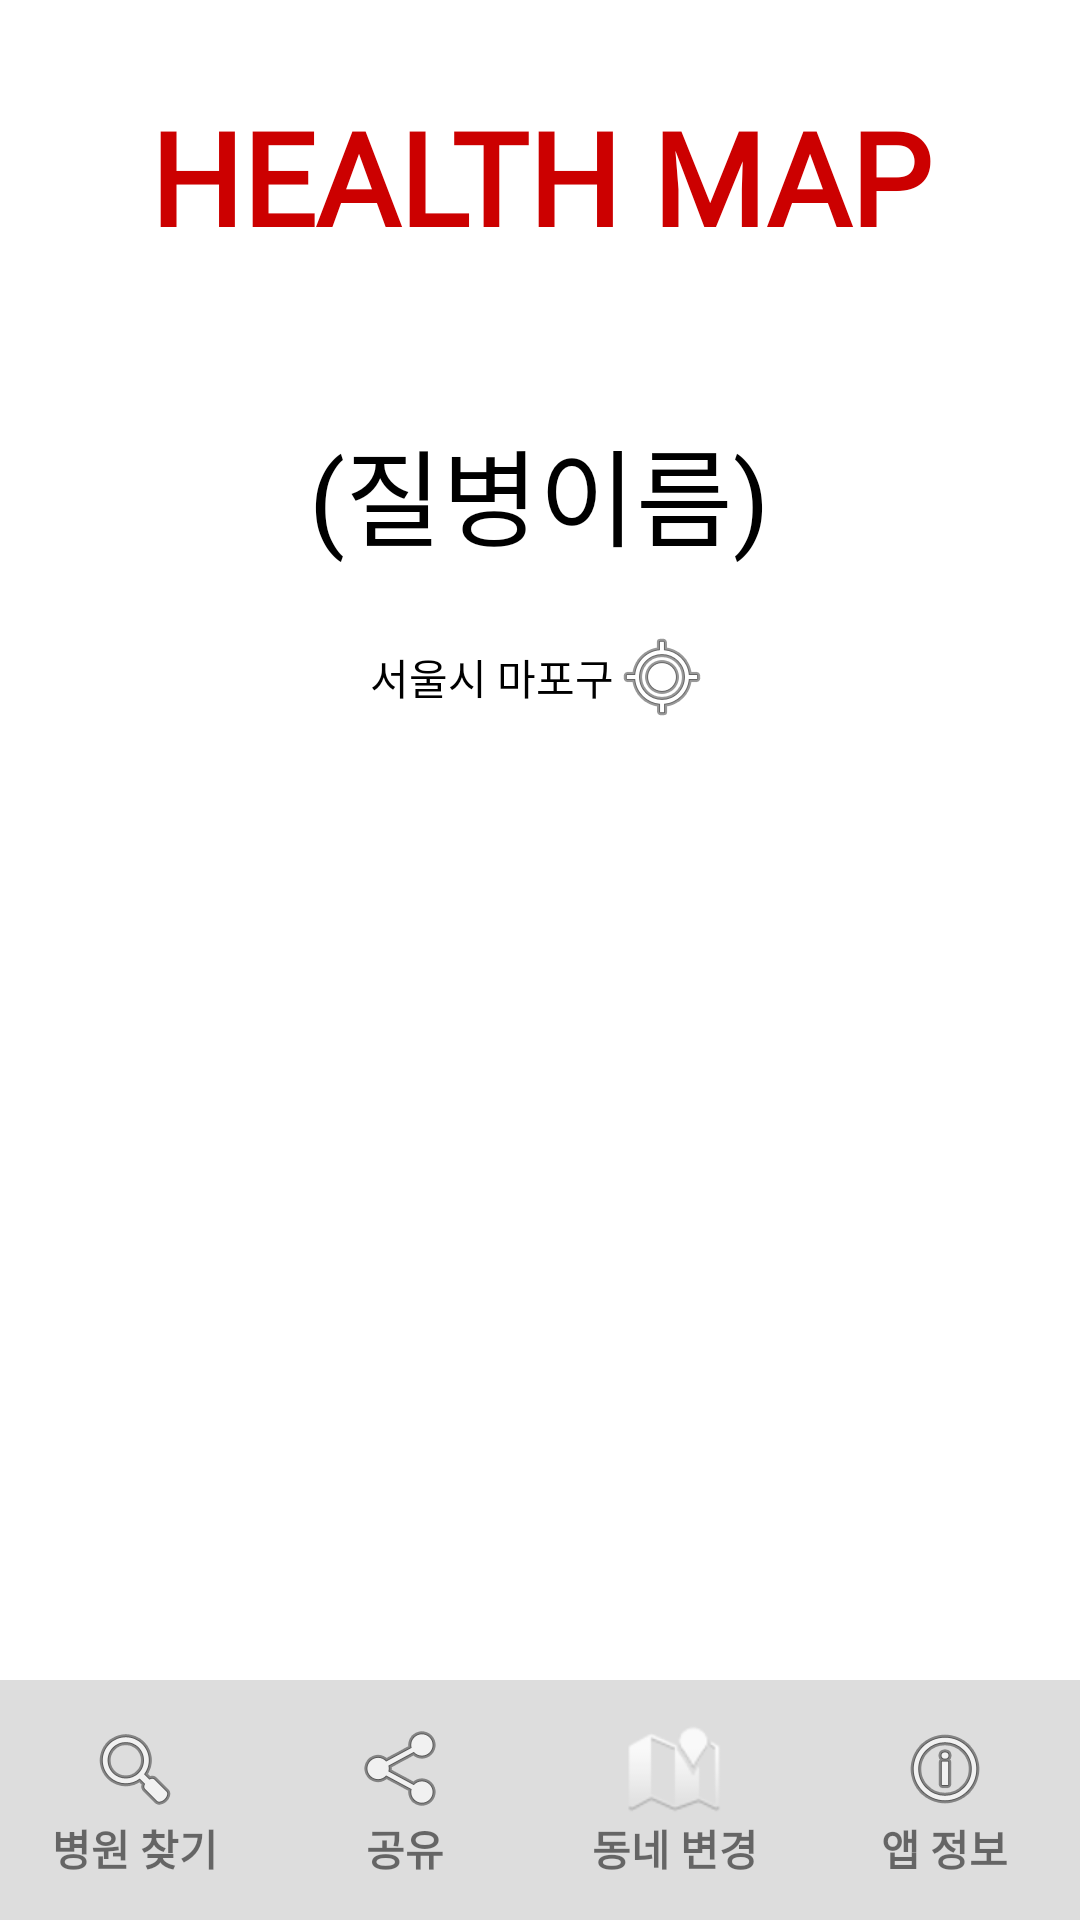

Point at icon controls on the screen. Image size 1080*1920, points as (x=x, y=y).
map: (x=674, y=1770)
mylocation: (x=662, y=677)
